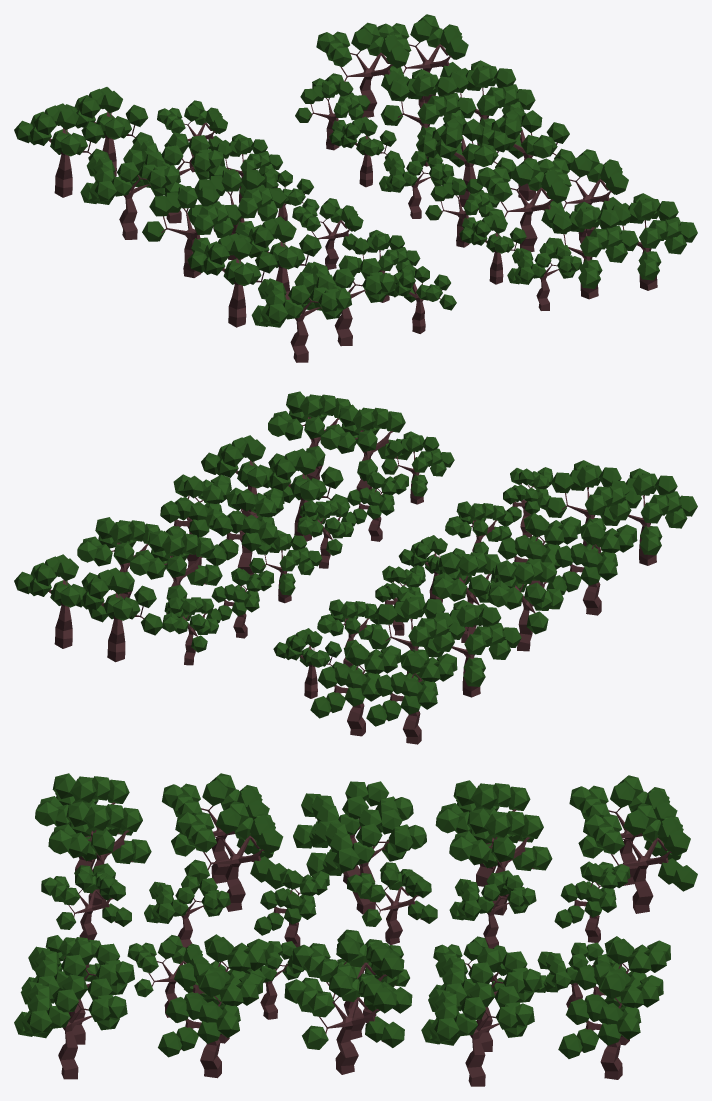
File: MangoFarmNav.glb
The picture shows the model from 3 angles, top to bottom: view 1: azimuth 30°, elevation 25°; view 2: azimuth 150°, elevation 25°; view 3: azimuth 270°, elevation 25°; orthographic projection. The views are drawn at different scales.
Visible parts, largest first — view 1: Icosphere.012, Icosphere.001, Icosphere.014, Icosphere.002, Icosphere.013; view 2: Icosphere.012, Icosphere.001, Icosphere.014, Icosphere.013, Icosphere.002; view 3: Icosphere.012, Icosphere.002, Icosphere.013, Icosphere.001, Icosphere.014.
Boxes of the visible parts, left/top/right/bottom form: Icosphere.012: left=157, top=78, right=582, bottom=333; Icosphere.001: left=14, top=103, right=351, bottom=362; Icosphere.014: left=316, top=22, right=638, bottom=299; Icosphere.002: left=377, top=14, right=697, bottom=290; Icosphere.013: left=65, top=87, right=396, bottom=346; Icosphere.012: left=162, top=431, right=553, bottom=698; Icosphere.001: left=366, top=468, right=697, bottom=744; Icosphere.014: left=76, top=404, right=410, bottom=662; Icosphere.013: left=310, top=460, right=641, bottom=736; Icosphere.002: left=14, top=391, right=358, bottom=648; Icosphere.012: left=34, top=861, right=630, bottom=1019; Icosphere.002: left=14, top=964, right=663, bottom=1086; Icosphere.013: left=48, top=801, right=697, bottom=915; Icosphere.001: left=35, top=773, right=681, bottom=886; Icosphere.014: left=21, top=929, right=670, bottom=1051.
Bounding box in the file's own units: 511 × 105 × 600.
